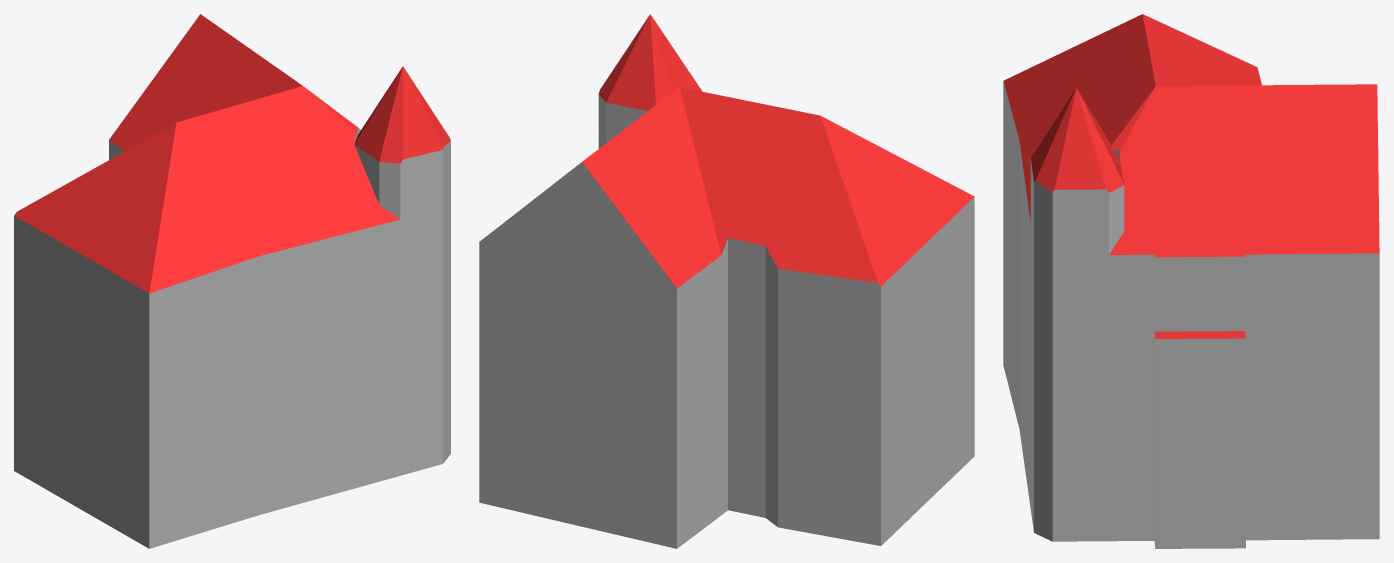
The model's file is DEBY_LOD2_4727090.dae.
The picture shows the model from 3 angles, left to right: view 1: azimuth 30°, elevation 25°; view 2: azimuth 150°, elevation 25°; view 3: azimuth 270°, elevation 25°; orthographic projection. The views are drawn at different scales.
Size of the model in its own units: 23.23 by 18.93 by 24.1.
